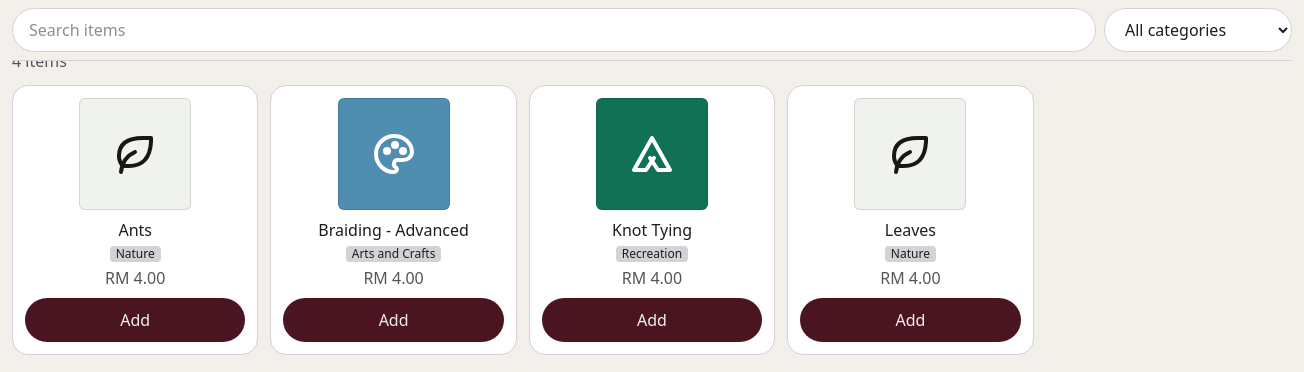
Test case: Catalogue › search and category filter › says "2 items match" in the plural
This screenshot has width=1304, height=372.
Expected: the text "Ants" is shown, [118,218,152,242]
Select "Nature" in the dropdown named "Category" at (1198, 30), box [1104,8,1292,52]
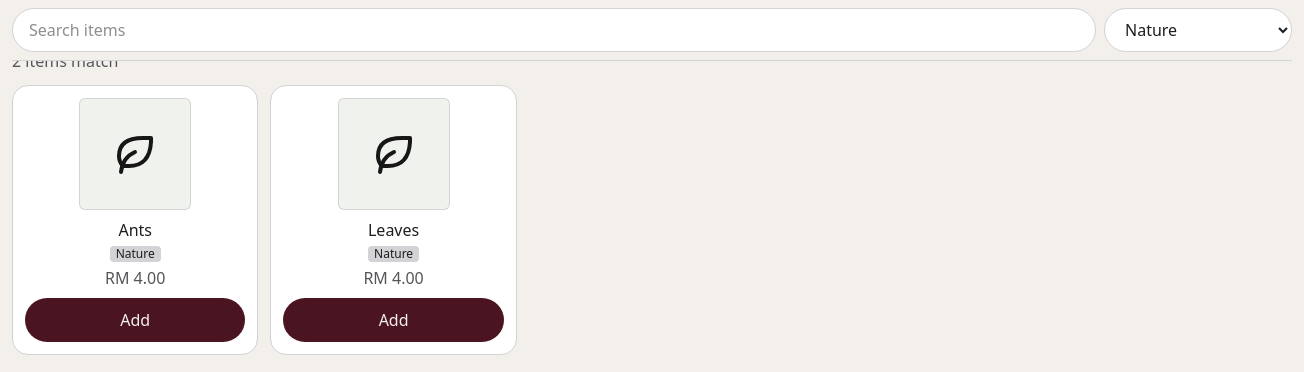
Expected: the text "2 items match" is shown, [12,50,118,72]
